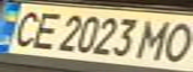0: (75, 11, 100, 55)
2: (51, 10, 84, 54), (93, 14, 124, 57)
3: (112, 13, 145, 60)
C: (3, 7, 48, 48)
E: (24, 8, 63, 52)
M: (136, 16, 178, 62)
O: (154, 19, 193, 64)
